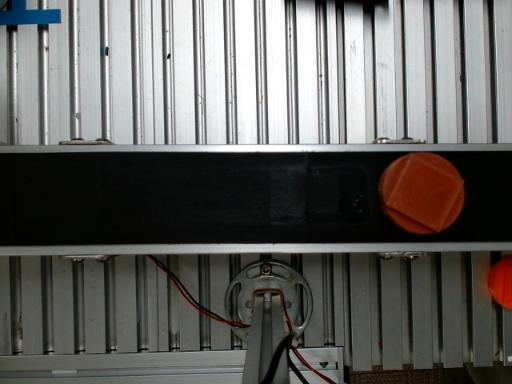Brown_Waper: (378, 152, 464, 234)
Square: (383, 153, 465, 234)
